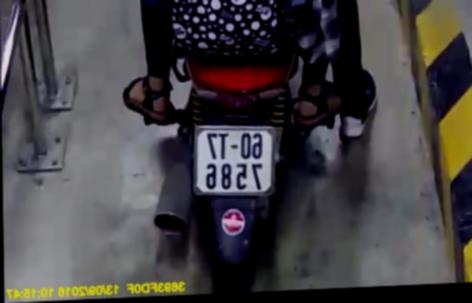License_Plate: (184, 117, 286, 203)
